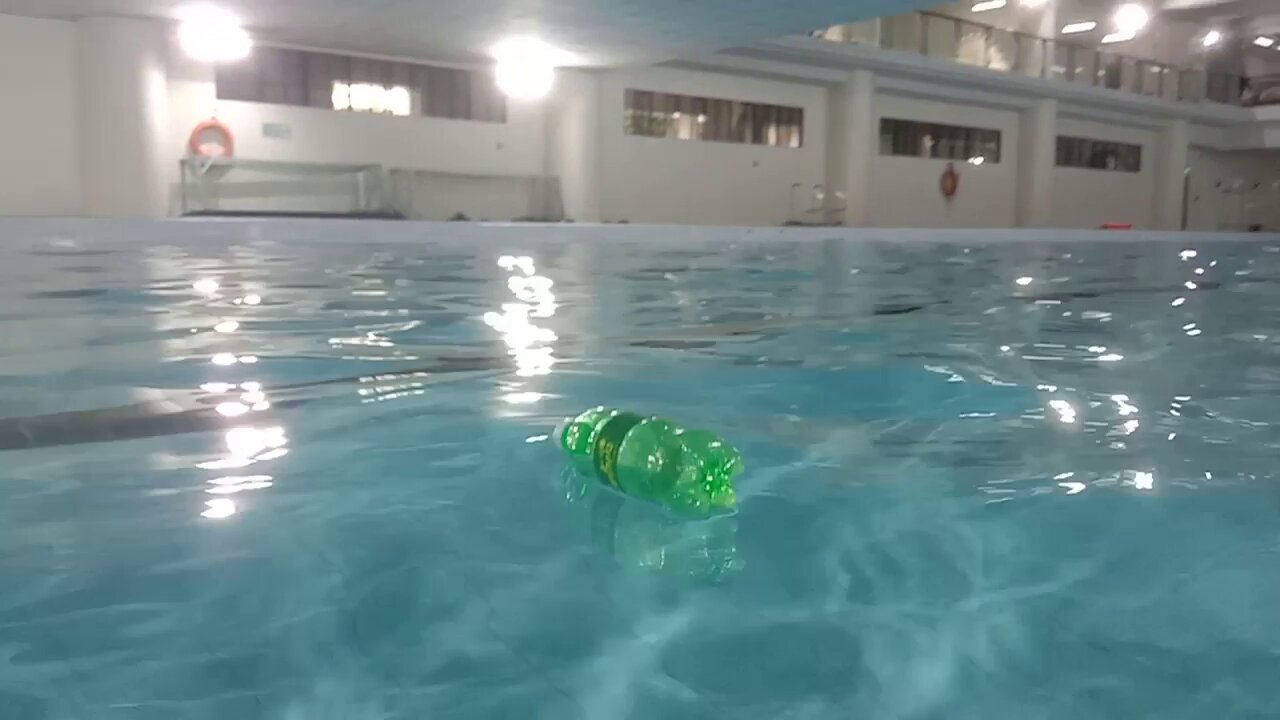plastic_bottle: (554, 407, 745, 513)
